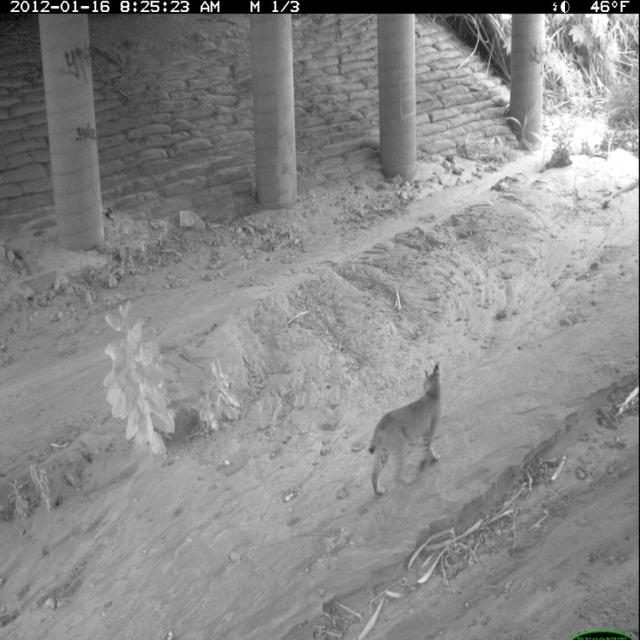bobcat: (366, 358, 444, 500)
